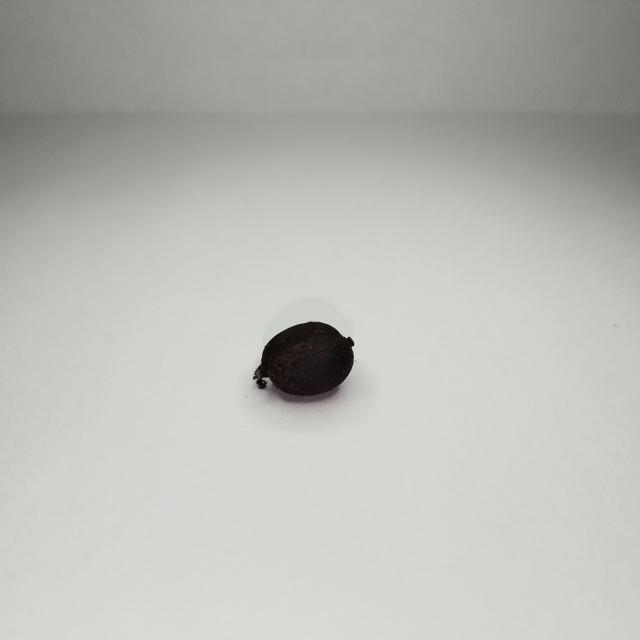Danado: (253, 322, 355, 400)
